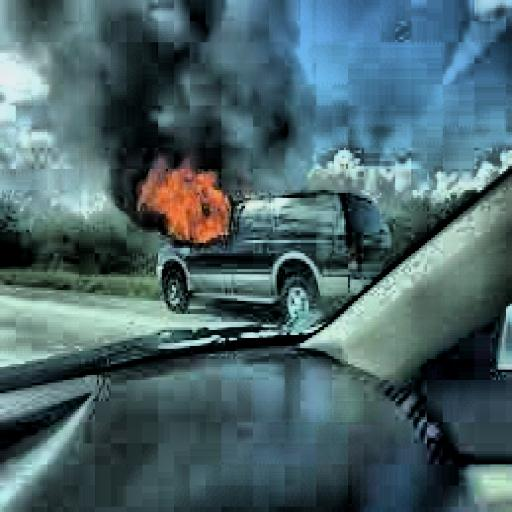fire: (119, 156, 237, 248)
